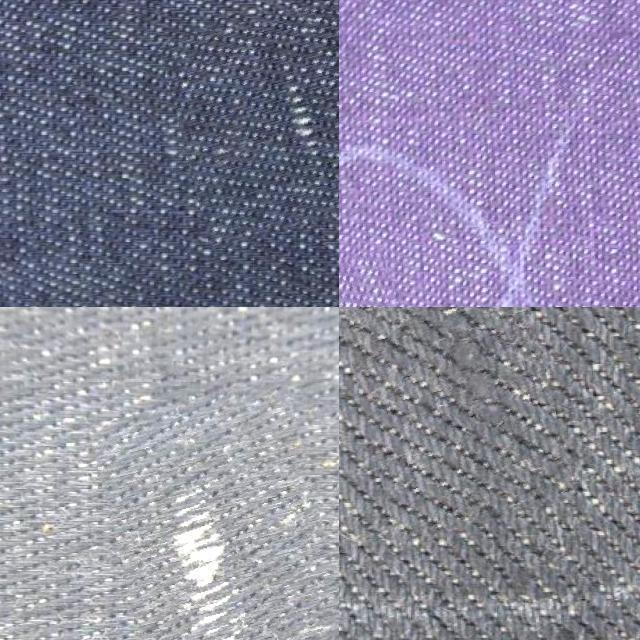stains: (107, 386, 339, 640), (339, 307, 555, 533), (170, 0, 339, 234), (339, 252, 405, 307)
